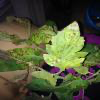Tomato Septoria leaf spot: (44, 20, 89, 70), (25, 75, 95, 94), (24, 25, 59, 46), (8, 47, 38, 63), (25, 69, 56, 79), (73, 65, 92, 74)
